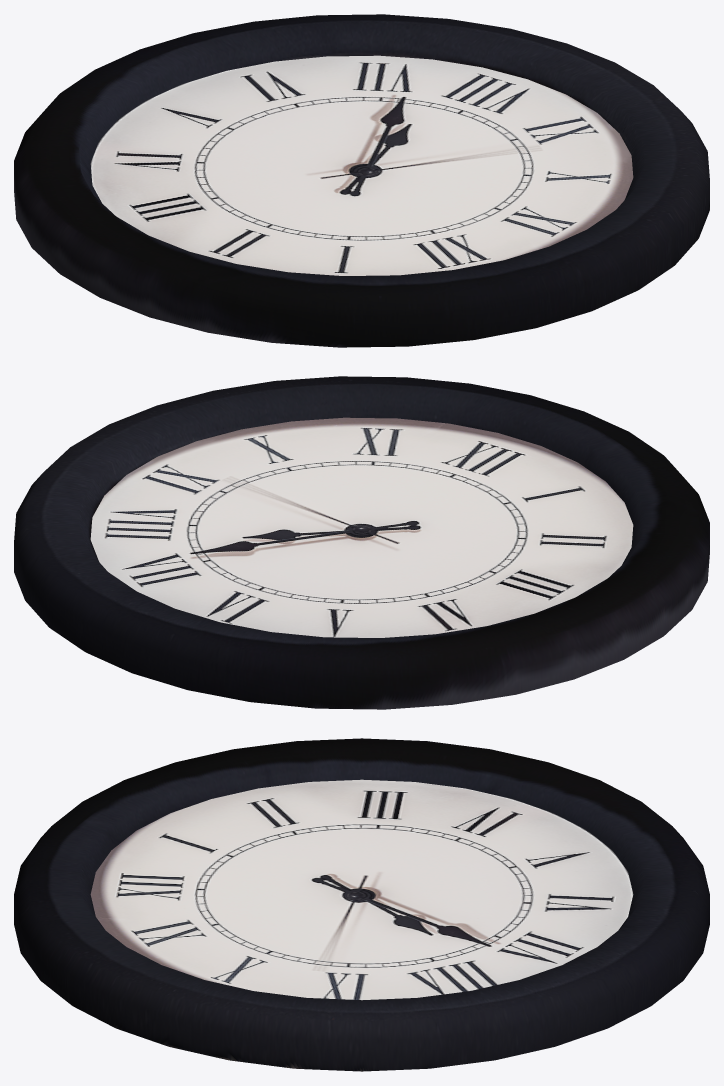
The model's file is kello.fbx.
3 views of the same model, one above another, from view 1: azimuth 30°, elevation 25°; view 2: azimuth 150°, elevation 25°; view 3: azimuth 270°, elevation 25° (orthographic).
Visible parts, largest first — view 1: Circle; view 2: Circle; view 3: Circle.
Boxes of the visible parts, x1,y1,x2,y2 form: Circle: [14, 14, 709, 347]; Circle: [14, 376, 709, 709]; Circle: [14, 738, 709, 1071].
Bounding box in the file's own units: 200 × 200 × 14.49.
Materials: 1 (1 with a texture image).
